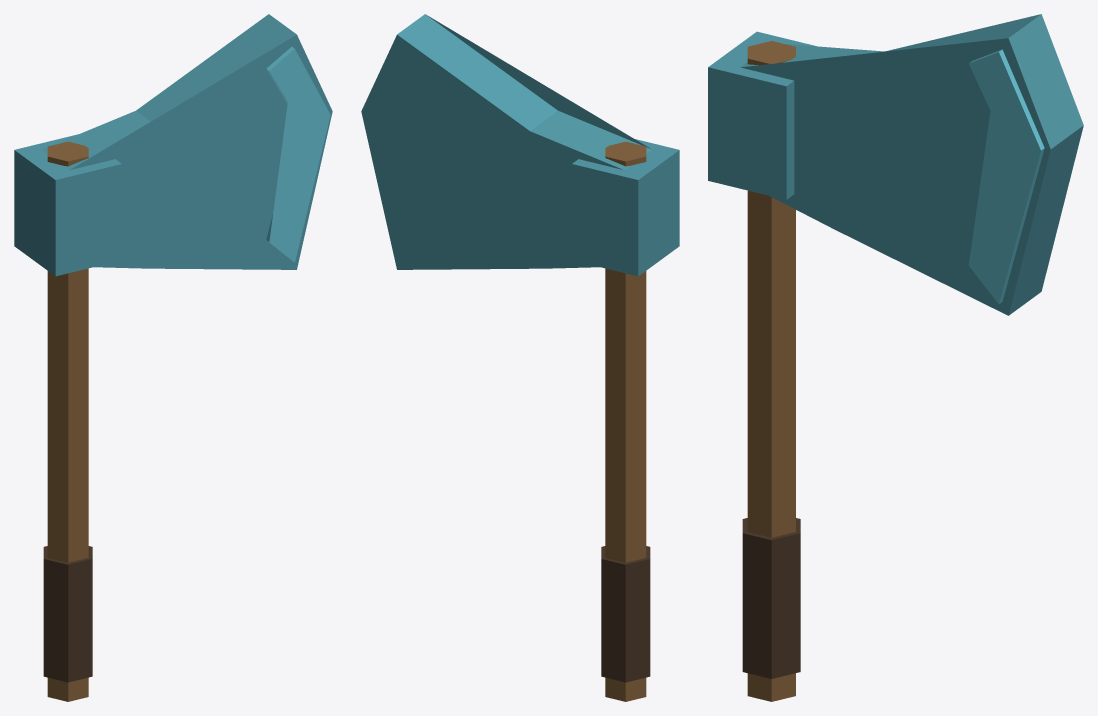
The model's file is runeAxe.glb.
The picture shows the model from 3 angles, left to right: view 1: azimuth 30°, elevation 25°; view 2: azimuth 150°, elevation 25°; view 3: azimuth 330°, elevation 25°; orthographic projection. The views are drawn at different scales.
Parts seen in each view (by area): view 1: runeAxe; view 2: runeAxe; view 3: runeAxe.
Boxes of the visible parts, bbox=[...] form: runeAxe: bbox=[14, 14, 332, 701]; runeAxe: bbox=[361, 14, 679, 701]; runeAxe: bbox=[708, 14, 1083, 701].
Bounding box in the file's own units: 0.4826 × 1 × 0.1217.
